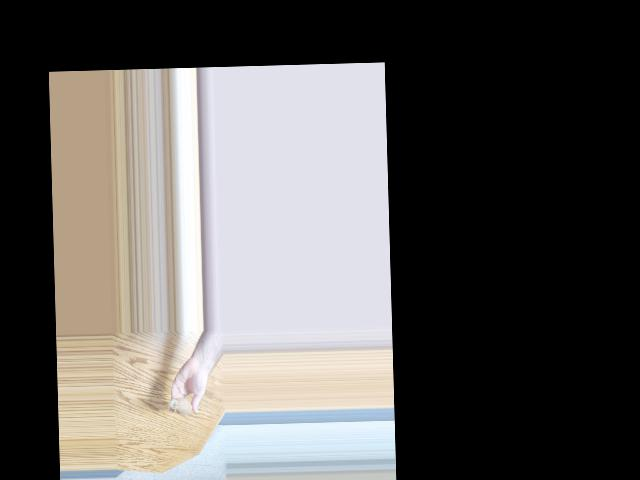sweet_potato: (169, 397, 195, 423)
